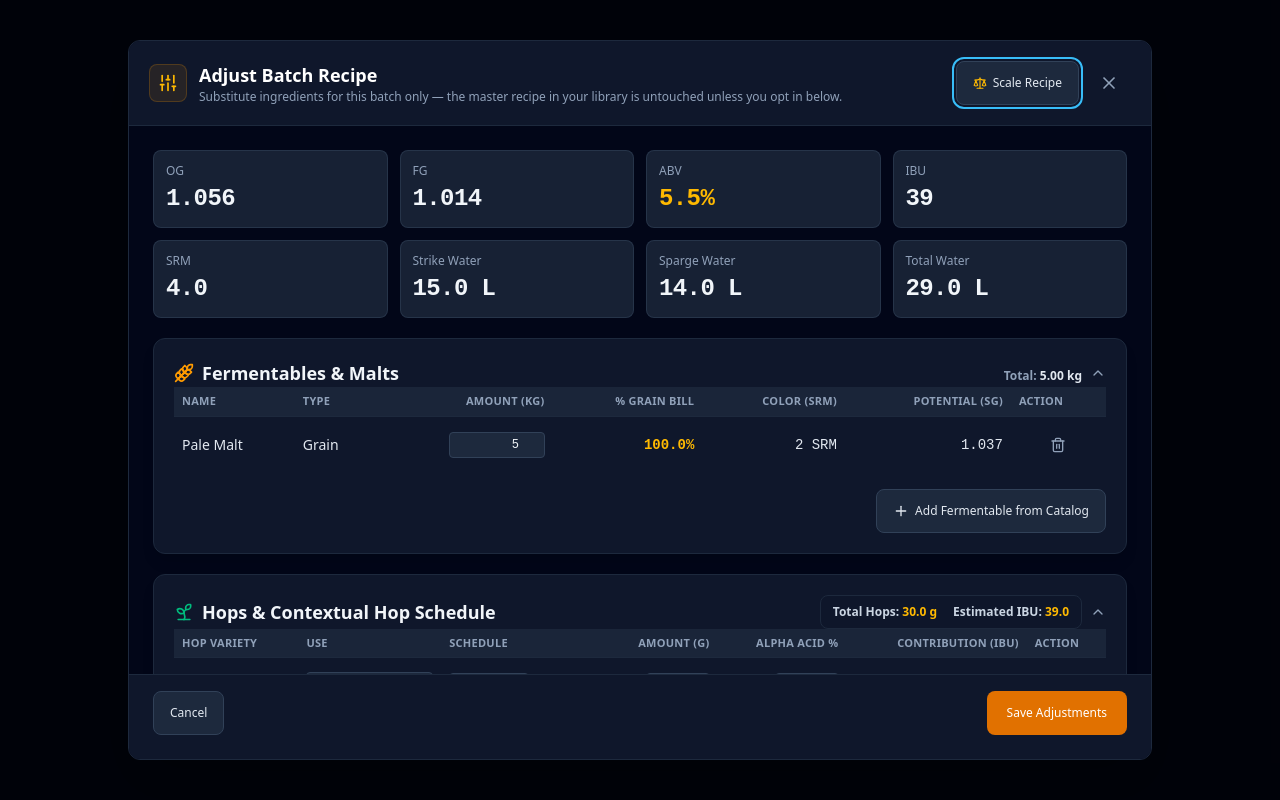
Test: Scale Recipe in BatchRecipeAdjustModal › opens scale dialog when clicking Scale Recipe button
The width and height of the screenshot is (1280, 800).
Click the button with test id "batch-recipe-scale-btn": x=1017, y=83 [956,61,1079,105]
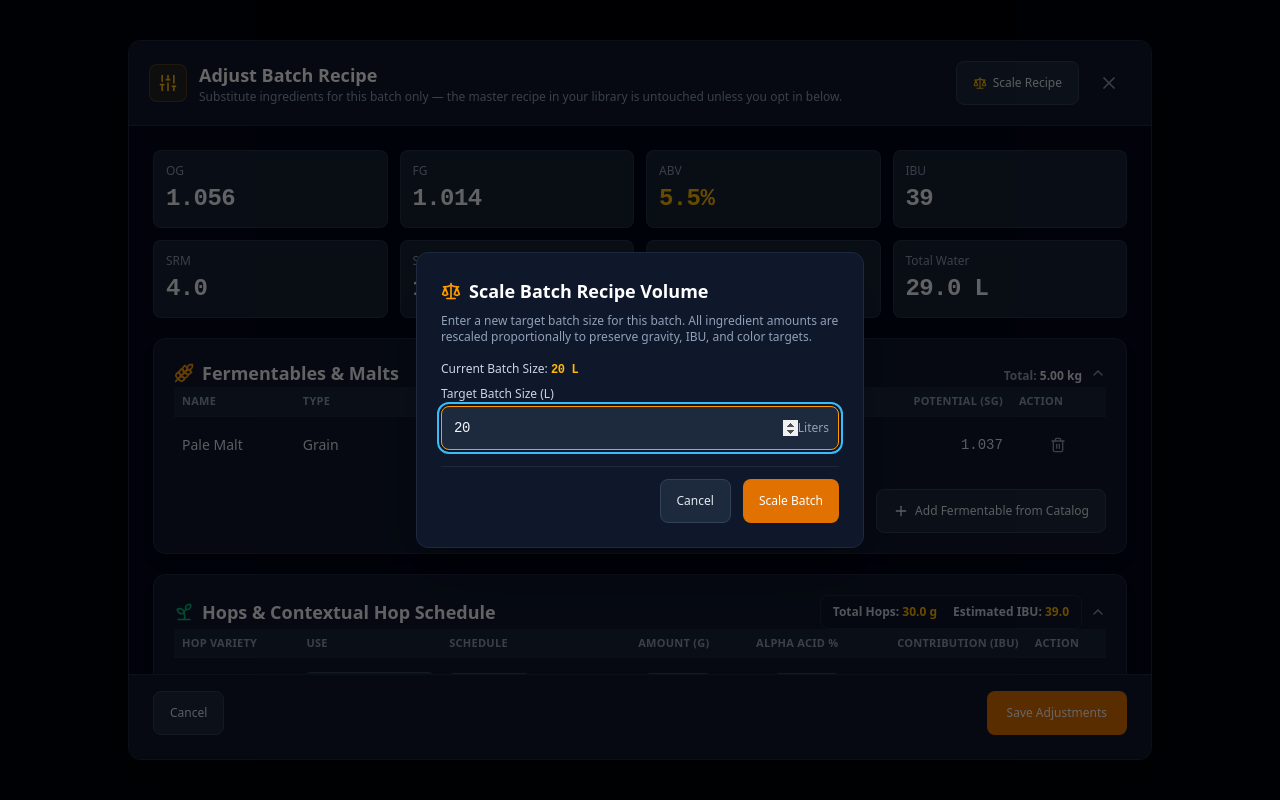
Expected: the heading "Scale Batch Recipe Volume" is shown, [441,279,708,303]
Expected: the button with test id "batch-scale-apply-btn" is shown, [743,479,839,523]
